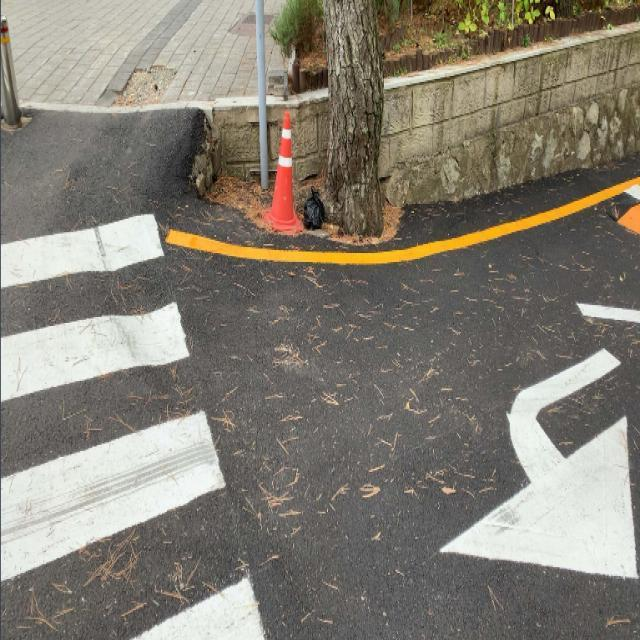Trashbag: (300, 192, 328, 232)
